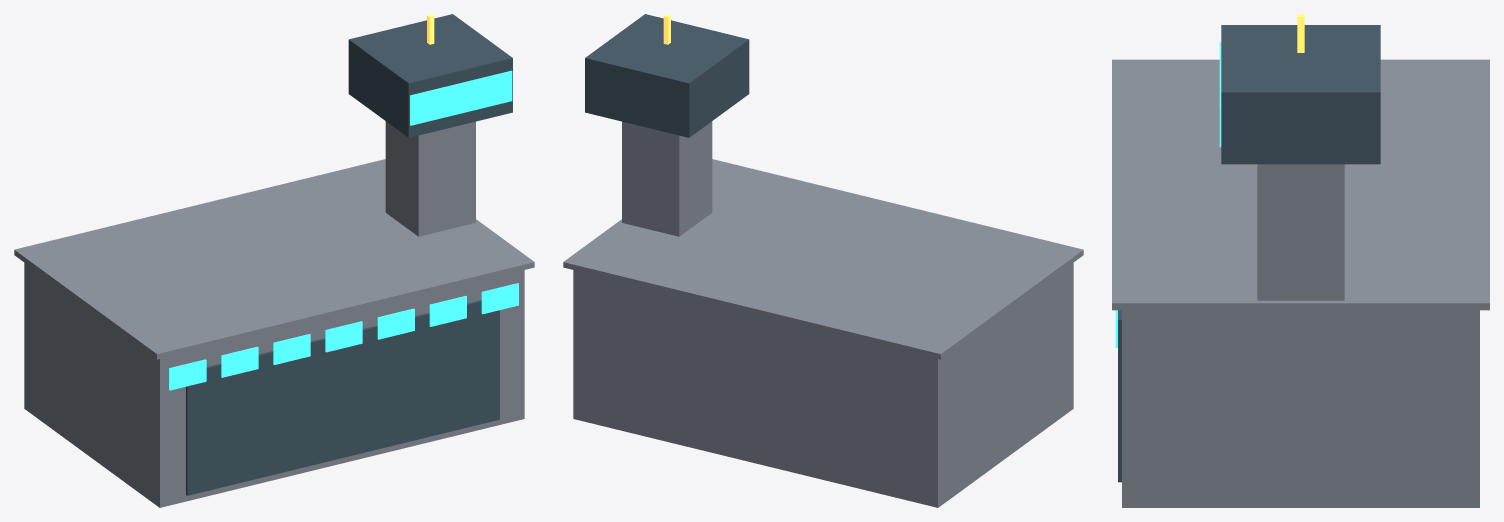
Rendered from airport.glb.
The picture shows the model from 3 angles, left to right: view 1: azimuth 30°, elevation 25°; view 2: azimuth 150°, elevation 25°; view 3: azimuth 270°, elevation 25°; orthographic projection. The views are drawn at different scales.
Parts seen in each view (by area): view 1: Landmark; view 2: Landmark; view 3: Landmark.
Boxes of the visible parts, left/top/right/bottom form: Landmark: left=14, top=14, right=534, bottom=507; Landmark: left=563, top=14, right=1083, bottom=507; Landmark: left=1112, top=14, right=1489, bottom=507.
Bounding box in the file's own units: 15.25 × 13.2 × 9.5.
